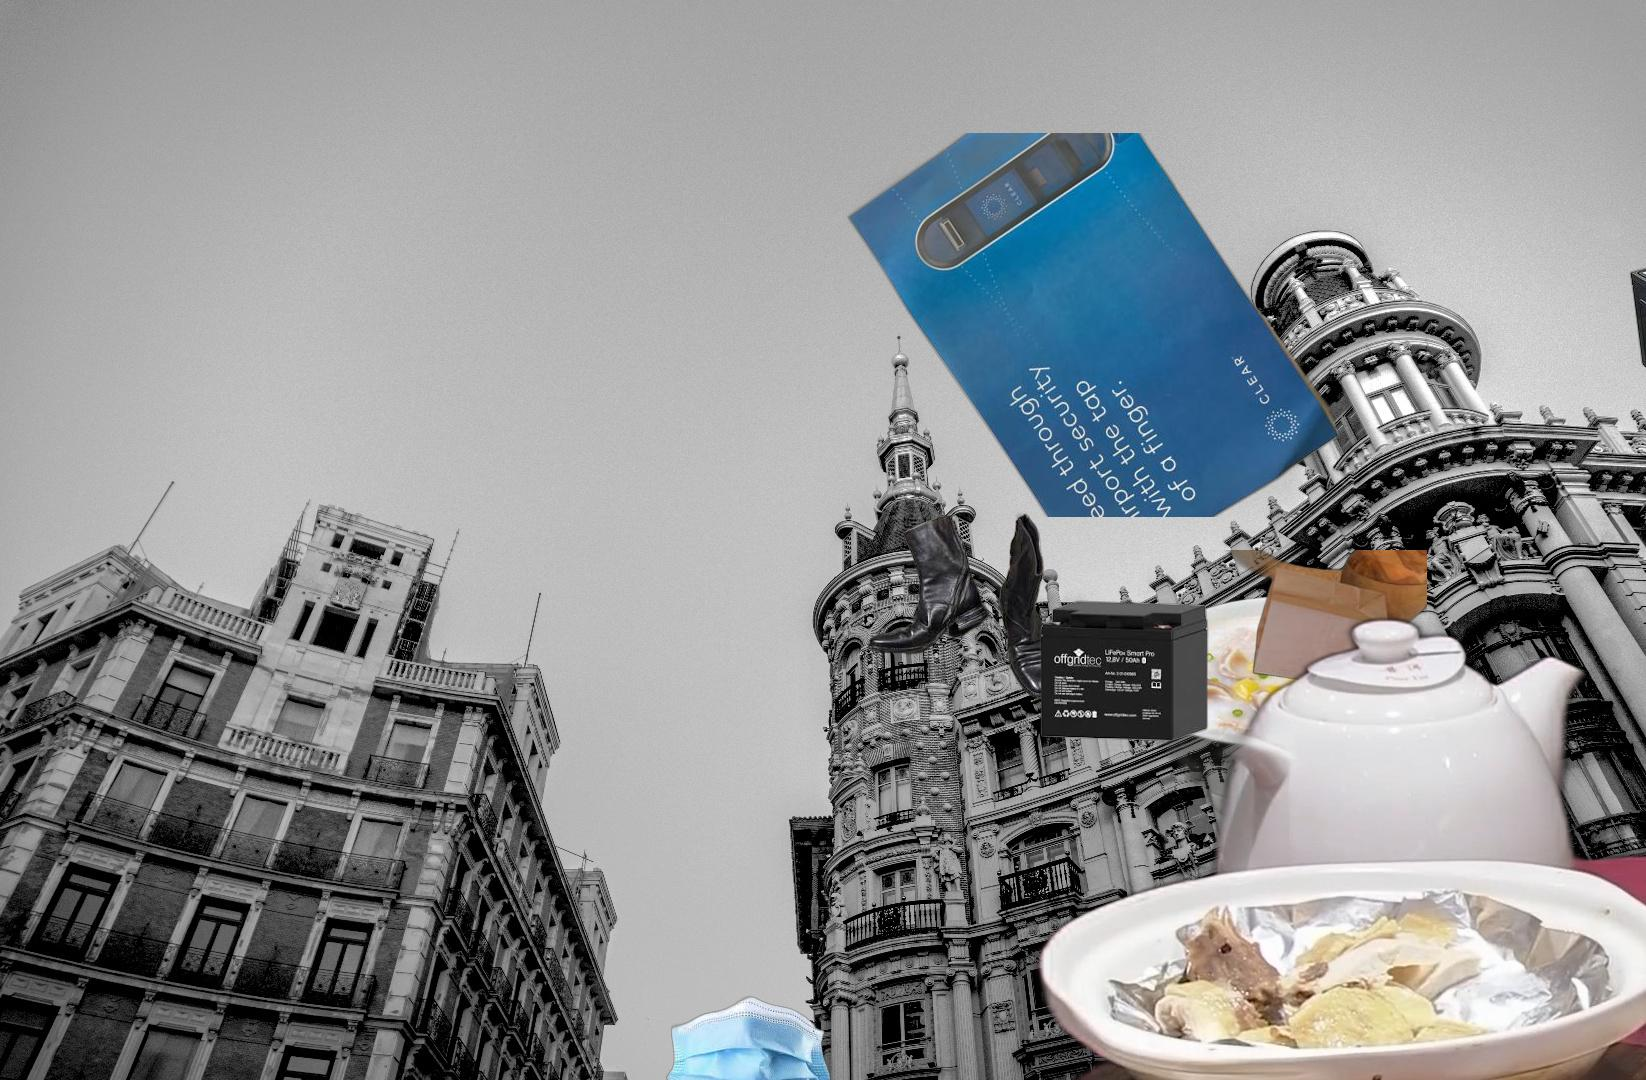battery: (1037, 598, 1211, 744), (1627, 237, 1646, 401)
biological: (850, 609, 1646, 1080), (1066, 594, 1462, 868)
paper: (828, 133, 1340, 517)
paper-bag: (1127, 550, 1427, 843)
shoes: (865, 510, 1058, 702)
trash: (664, 994, 833, 1080)
